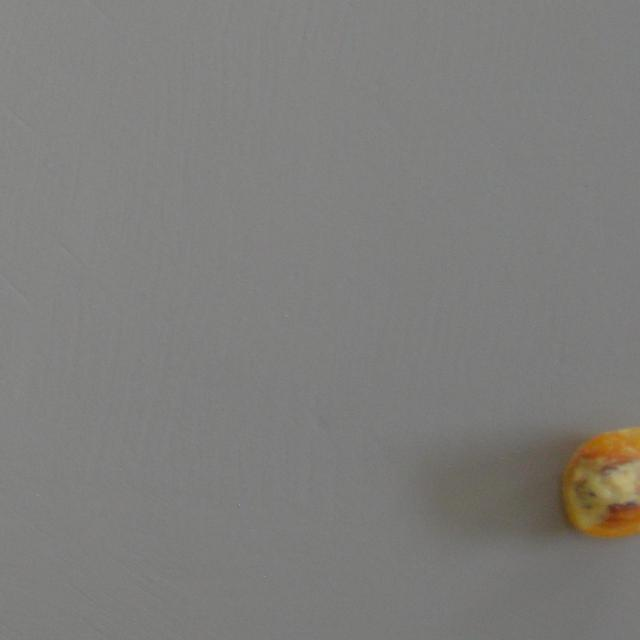dañado: (561, 424, 640, 537)
